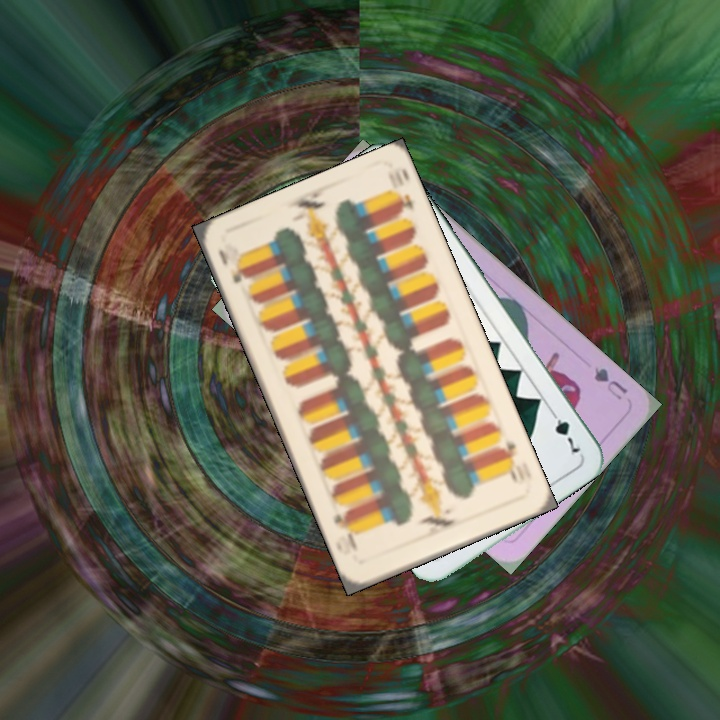E10: (214, 245, 251, 286), (494, 436, 521, 486)
G7: (545, 404, 584, 458)
GU: (589, 363, 630, 403)
